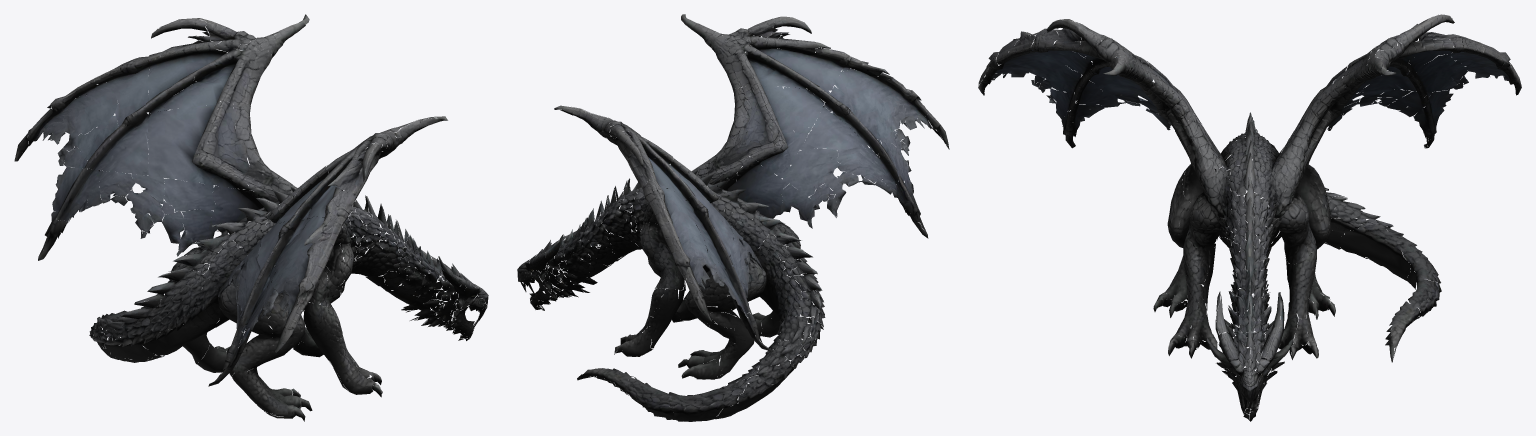
The model's file is dragon-render-18k.glb.
3 views of the same model, side by side, from view 1: azimuth 30°, elevation 25°; view 2: azimuth 150°, elevation 25°; view 3: azimuth 270°, elevation 25° (orthographic). The views are drawn at different scales.
Visible parts, largest first — view 1: abyss-dragon_DIRECT_LOD1; view 2: abyss-dragon_DIRECT_LOD1; view 3: abyss-dragon_DIRECT_LOD1.
Boxes of the visible parts, x1,y1,x2,y2 form: abyss-dragon_DIRECT_LOD1: (14, 14, 488, 421); abyss-dragon_DIRECT_LOD1: (517, 14, 949, 421); abyss-dragon_DIRECT_LOD1: (978, 14, 1521, 421).
Size of the model in its own units: 12.61 by 10.01 by 15.85.
1 material, 1 textured.
